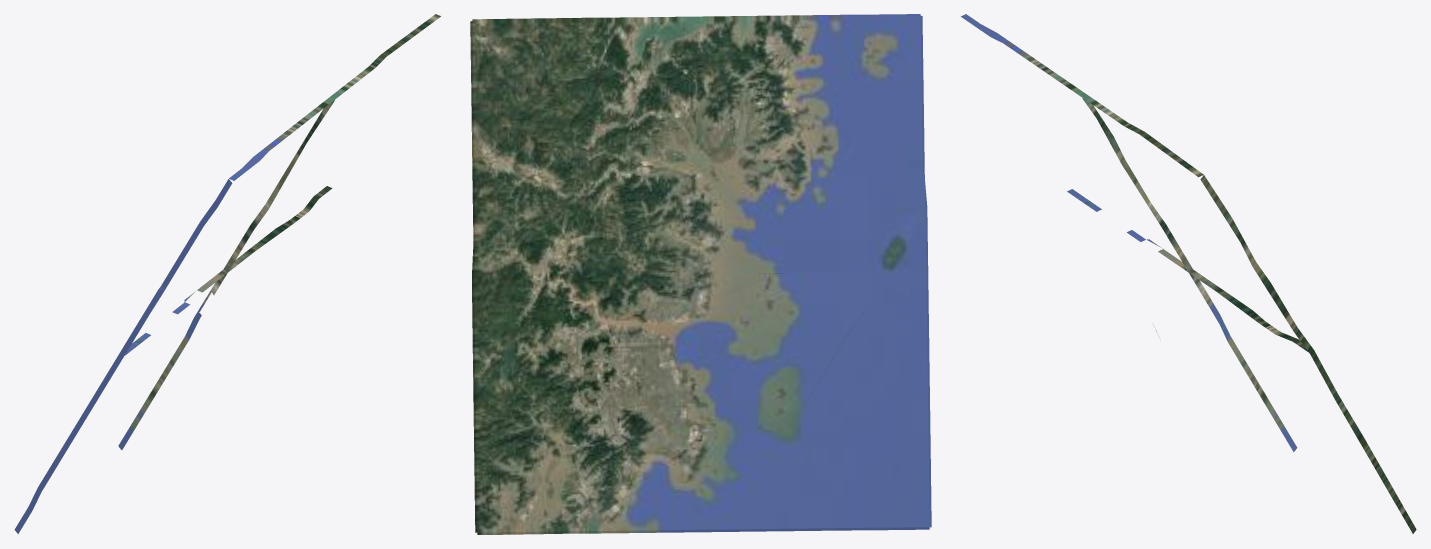
The picture shows the model from 3 angles, left to right: view 1: azimuth 30°, elevation 25°; view 2: azimuth 150°, elevation 25°; view 3: azimuth 270°, elevation 25°; orthographic projection. The views are drawn at different scales.
Size of the model in its own units: 157907 by 139321 by 138726.
1 material, 1 textured.
